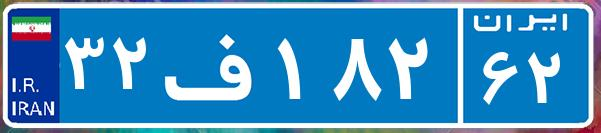1: (273, 28, 330, 110)
2: (385, 28, 445, 110), (110, 28, 158, 105), (525, 38, 570, 115)
3: (57, 26, 110, 107)
6: (475, 38, 525, 113)
8: (330, 28, 385, 110)
ف: (158, 15, 273, 115)
